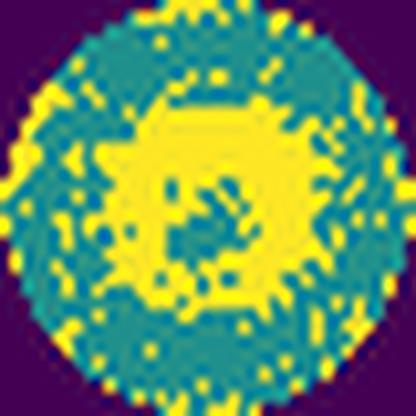Donut: (82, 90, 343, 328)
